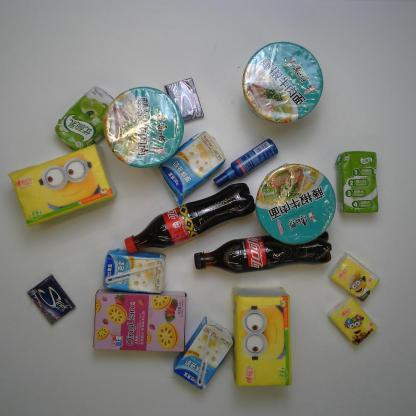Dessert: (89, 285, 183, 356)
Drink: (120, 182, 261, 252), (191, 233, 341, 278)
Gum: (30, 274, 80, 332), (164, 76, 204, 127)
Instant Noodles: (236, 40, 324, 127), (251, 162, 336, 250), (101, 86, 184, 172)
Milk: (170, 316, 237, 390), (160, 128, 227, 202), (55, 84, 120, 150), (333, 150, 389, 224), (100, 249, 172, 298)
Personal Hygiene: (210, 139, 287, 191)
Tissue: (6, 141, 110, 234), (228, 287, 300, 399), (327, 298, 378, 352), (332, 252, 382, 300)
